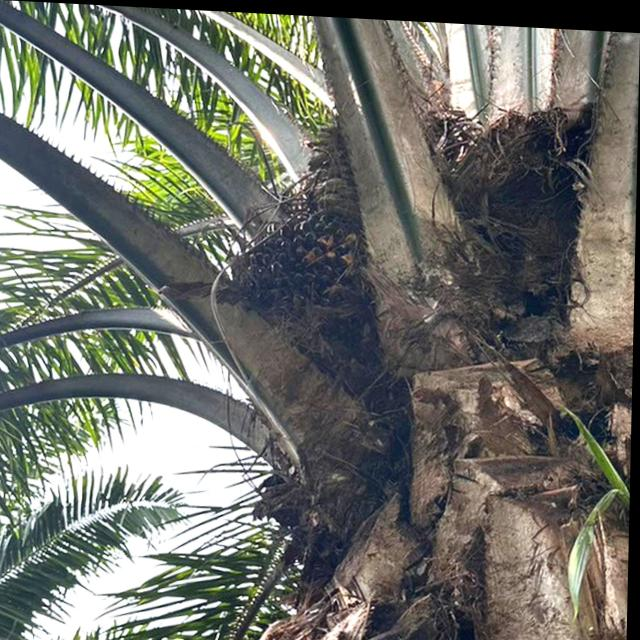almost: (218, 198, 375, 326)
